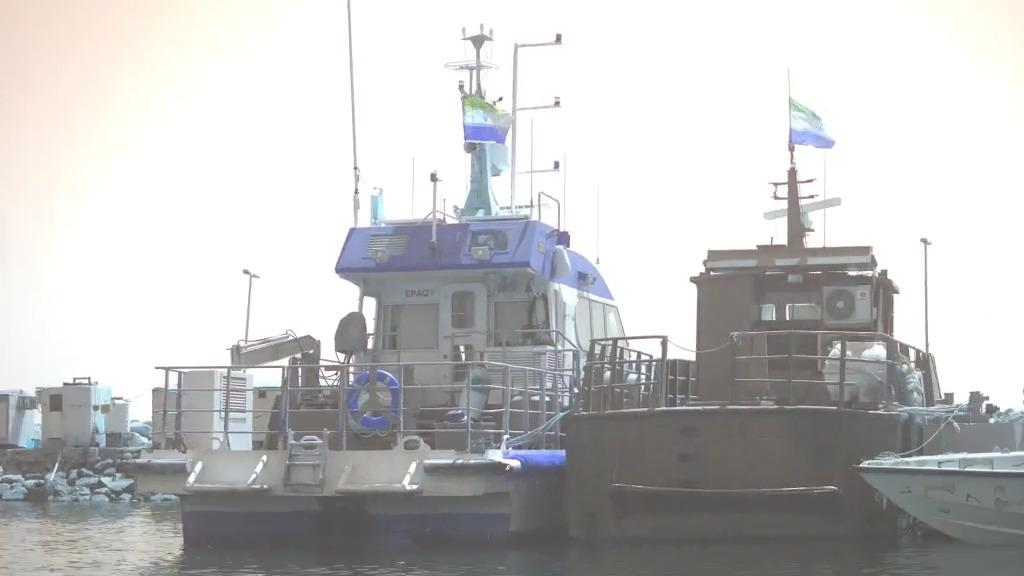PassengerShip: (172, 74, 672, 558), (552, 164, 998, 558)
